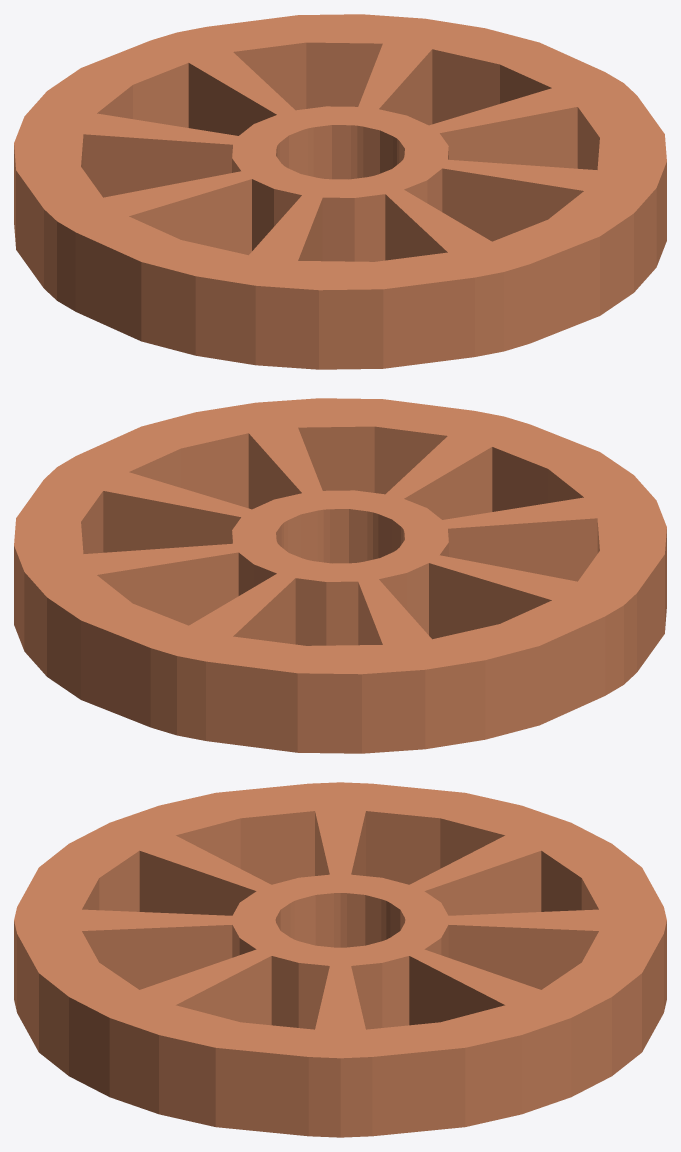
The model's file is gear_particle1.glb.
3 views of the same model, one above another, from view 1: azimuth 30°, elevation 25°; view 2: azimuth 150°, elevation 25°; view 3: azimuth 270°, elevation 25° (orthographic).
Visible parts, largest first — view 1: Gear Particle 1; view 2: Gear Particle 1; view 3: Gear Particle 1.
Part boxes in pixels (left/top/right/bottom): Gear Particle 1: left=14, top=14, right=666, bottom=369; Gear Particle 1: left=14, top=398, right=666, bottom=753; Gear Particle 1: left=14, top=782, right=666, bottom=1137.
Bounding box in the file's own units: 2 × 0.2682 × 2.
